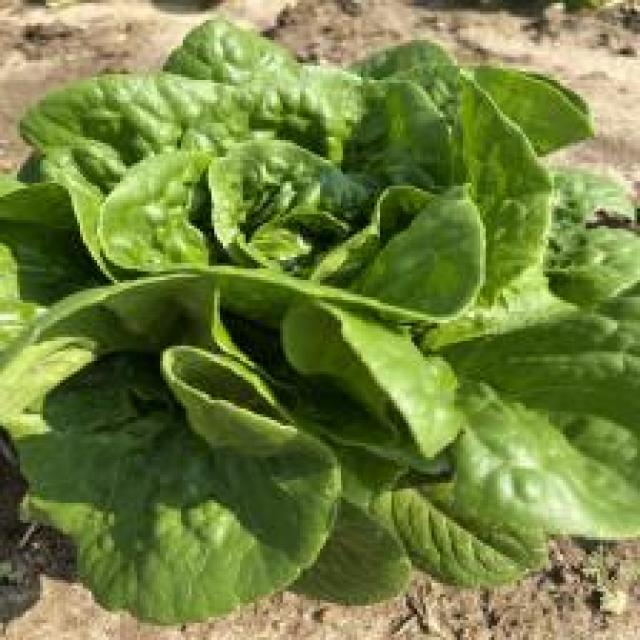Lettuce: (7, 25, 640, 598)
